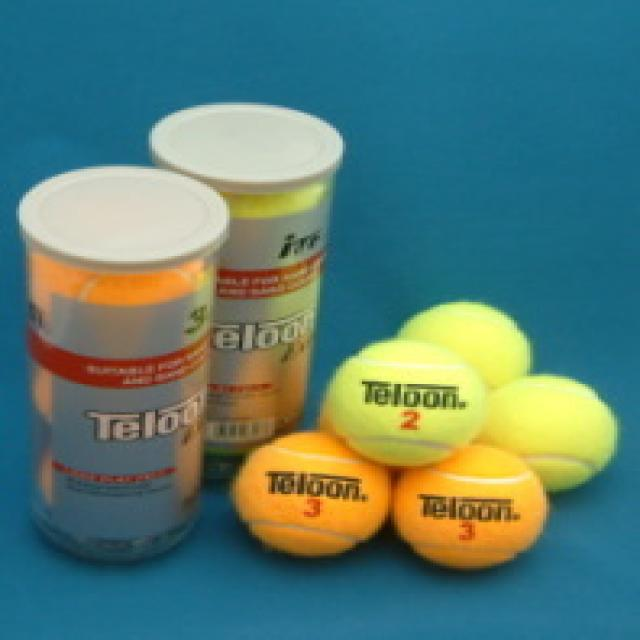Tennis Ball: (320, 338, 491, 471), (229, 430, 398, 563), (391, 440, 553, 576), (33, 330, 212, 441), (34, 428, 208, 542), (478, 374, 621, 497), (30, 258, 206, 338), (398, 302, 533, 394), (220, 179, 330, 223)
